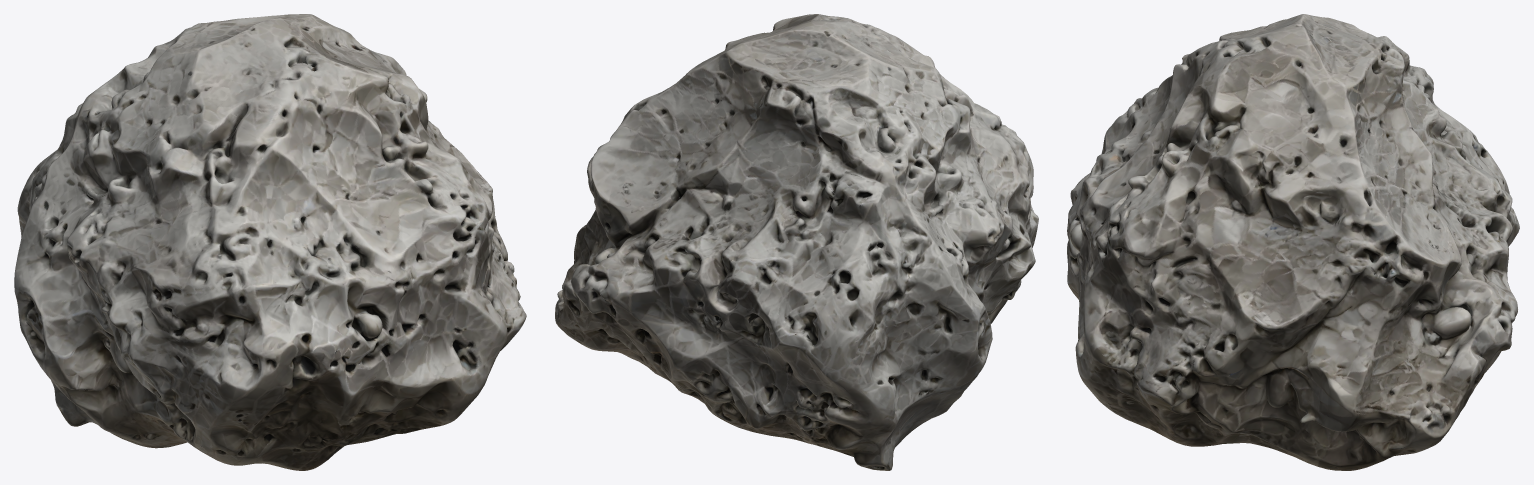
The model's file is nature-rock-limestone.glb.
3 views of the same model, side by side, from view 1: azimuth 30°, elevation 25°; view 2: azimuth 150°, elevation 25°; view 3: azimuth 270°, elevation 25° (orthographic). The views are drawn at different scales.
Visible parts, largest first — view 1: tripo_node_6c25d974-77f9-445f-b066-abf628324dd8; view 2: tripo_node_6c25d974-77f9-445f-b066-abf628324dd8; view 3: tripo_node_6c25d974-77f9-445f-b066-abf628324dd8.
Part boxes in pixels (bbox=[...]): tripo_node_6c25d974-77f9-445f-b066-abf628324dd8: bbox=[14, 14, 526, 470]; tripo_node_6c25d974-77f9-445f-b066-abf628324dd8: bbox=[555, 14, 1038, 470]; tripo_node_6c25d974-77f9-445f-b066-abf628324dd8: bbox=[1067, 14, 1519, 470].
Size of the model in its own units: 2.81 by 2.5 by 2.54.
Materials: 1 (1 with a texture image).
